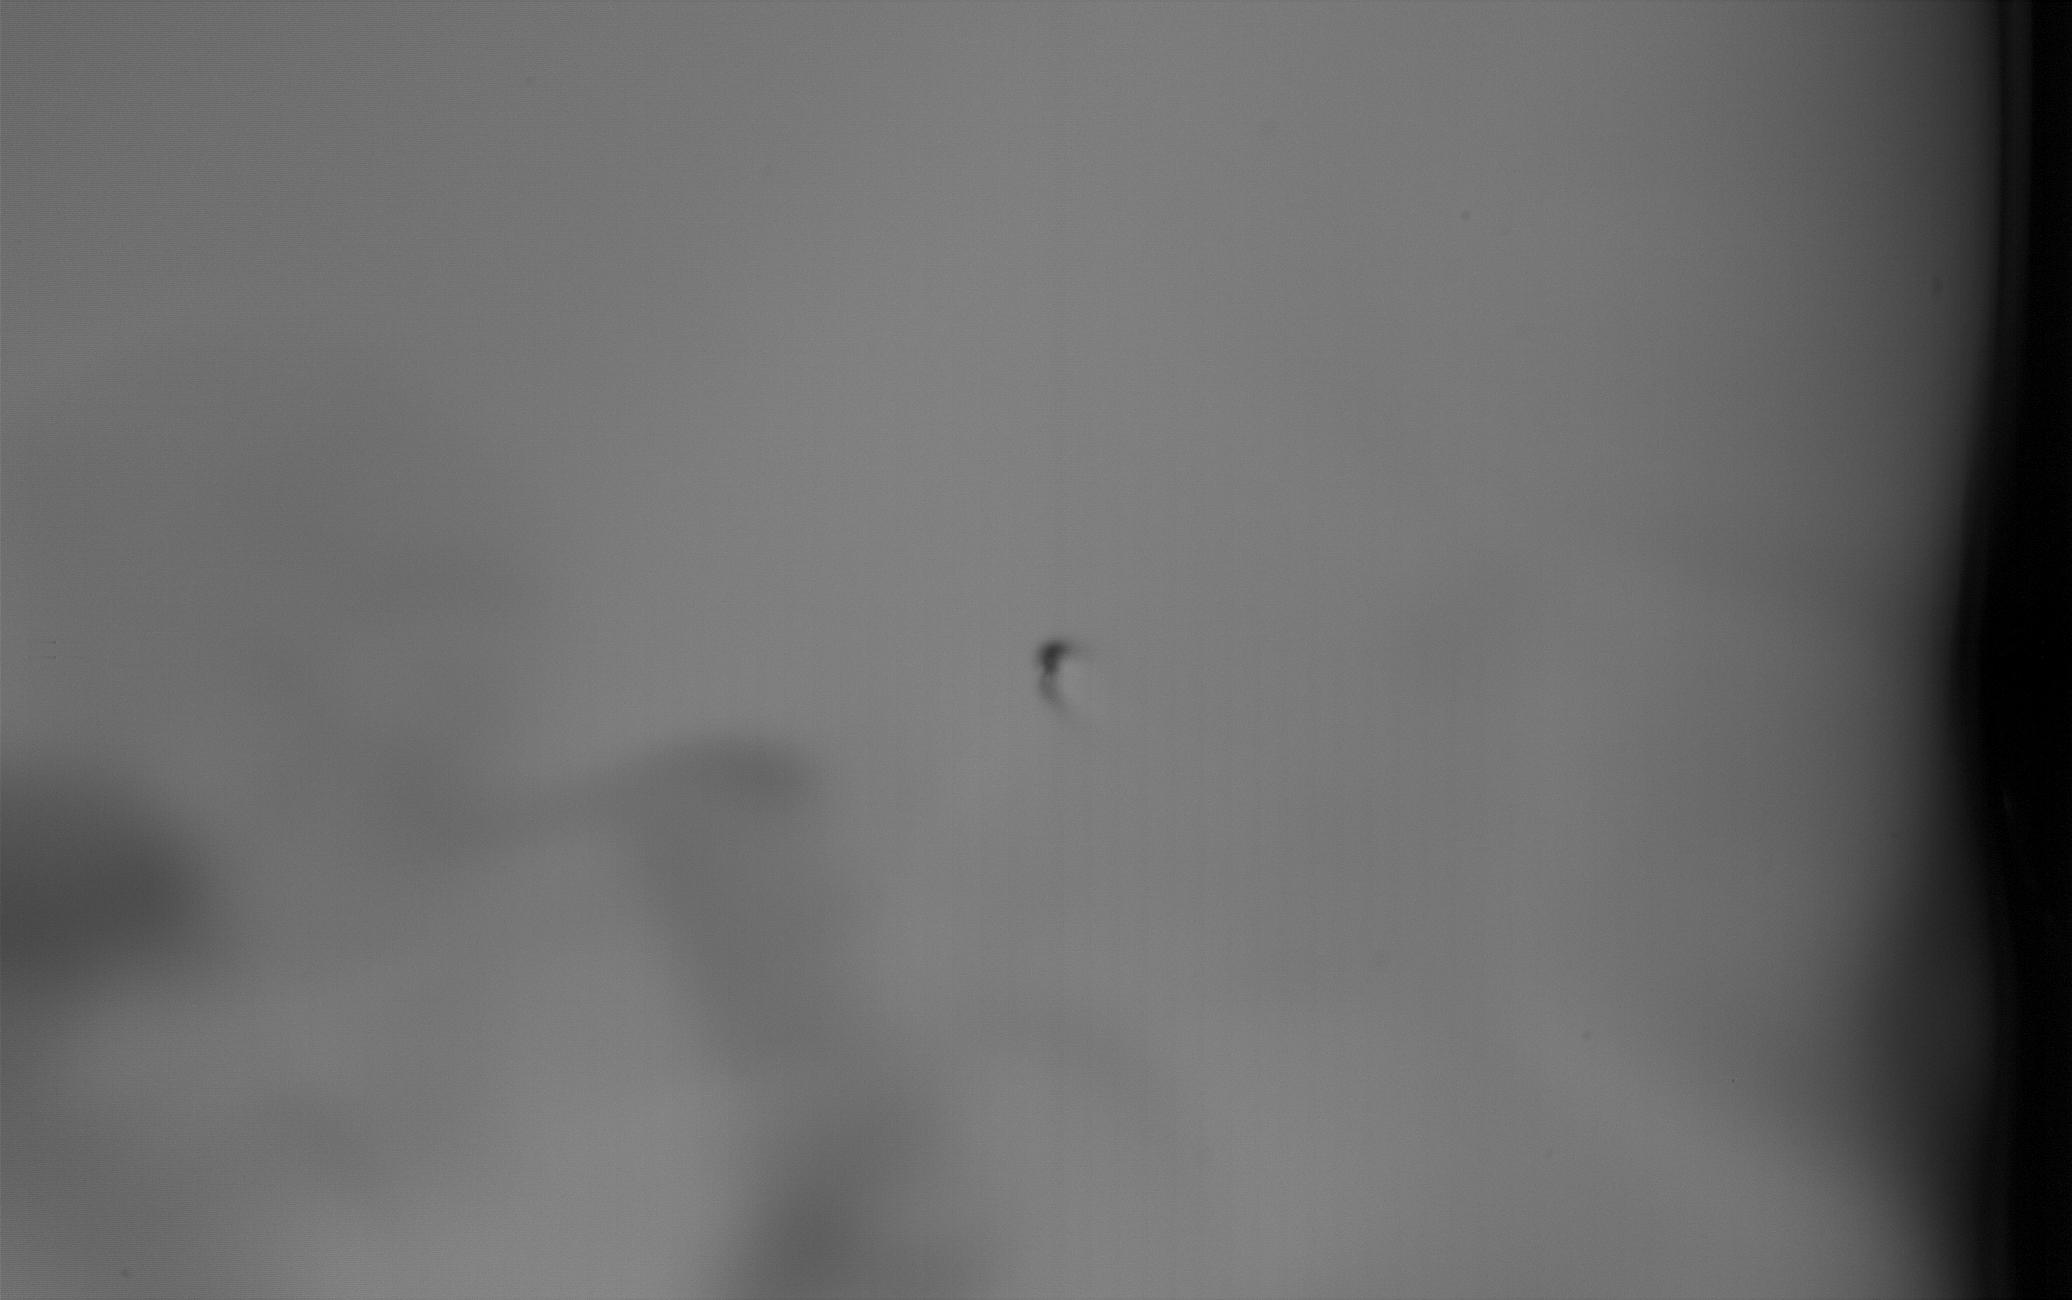DiffusiveMixing: (1030, 631, 1070, 719)
